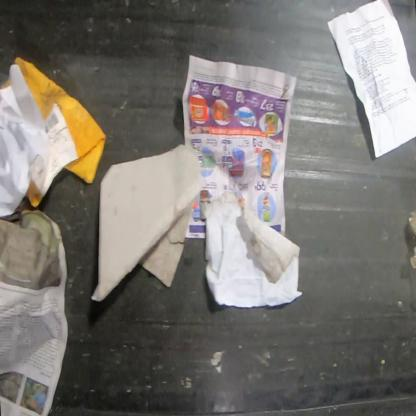soft_plastic: (407, 211, 415, 273)
